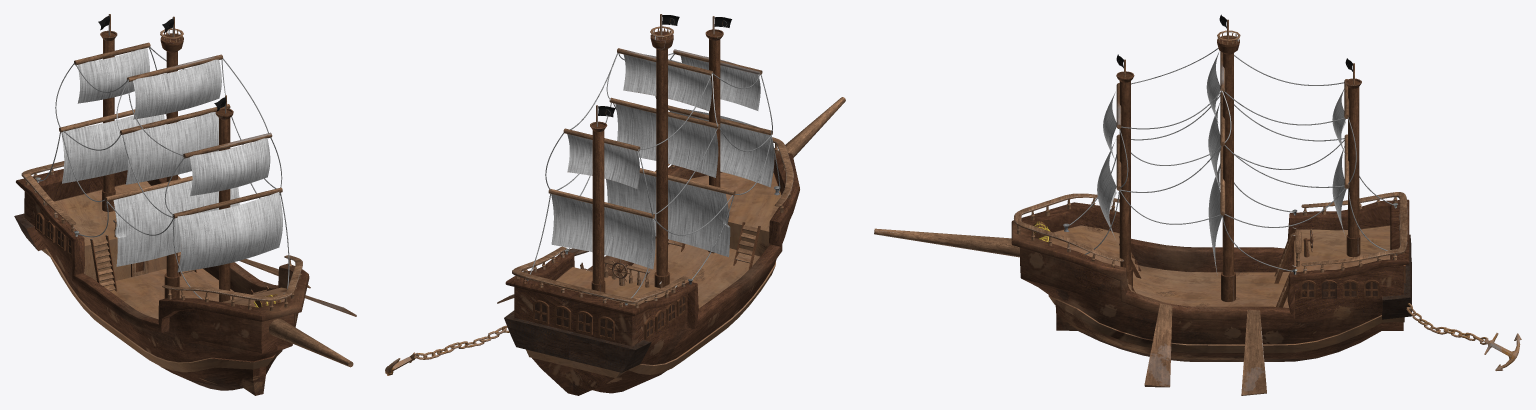
Rendered from Barco edad media V3.fbx.
The picture shows the model from 3 angles, left to right: view 1: azimuth 30°, elevation 25°; view 2: azimuth 150°, elevation 25°; view 3: azimuth 270°, elevation 25°; orthographic projection.
Parts seen in each view (by area): view 1: Cube.007, Cube.001, NurbsPath.012; view 2: Cube.007, Cube.001, NurbsPath.012; view 3: Cube.001, Cube.007, NurbsPath.012.
Part boxes in pixels (x1=…): Cube.007: x1=21, y1=14, x2=356, y2=367; Cube.001: x1=14, y1=169, x2=309, y2=395; NurbsPath.012: x1=38, y1=47, x2=289, y2=299; Cube.007: x1=385, y1=14, x2=845, y2=375; Cube.001: x1=504, y1=150, x2=799, y2=395; NurbsPath.012: x1=530, y1=52, x2=780, y2=297; Cube.001: x1=1011, y1=199, x2=1411, y2=361; Cube.007: x1=874, y1=14, x2=1521, y2=395; NurbsPath.012: x1=1069, y1=48, x2=1393, y2=271.
Bounding box in the file's own units: 3170 × 4873 × 8412.
